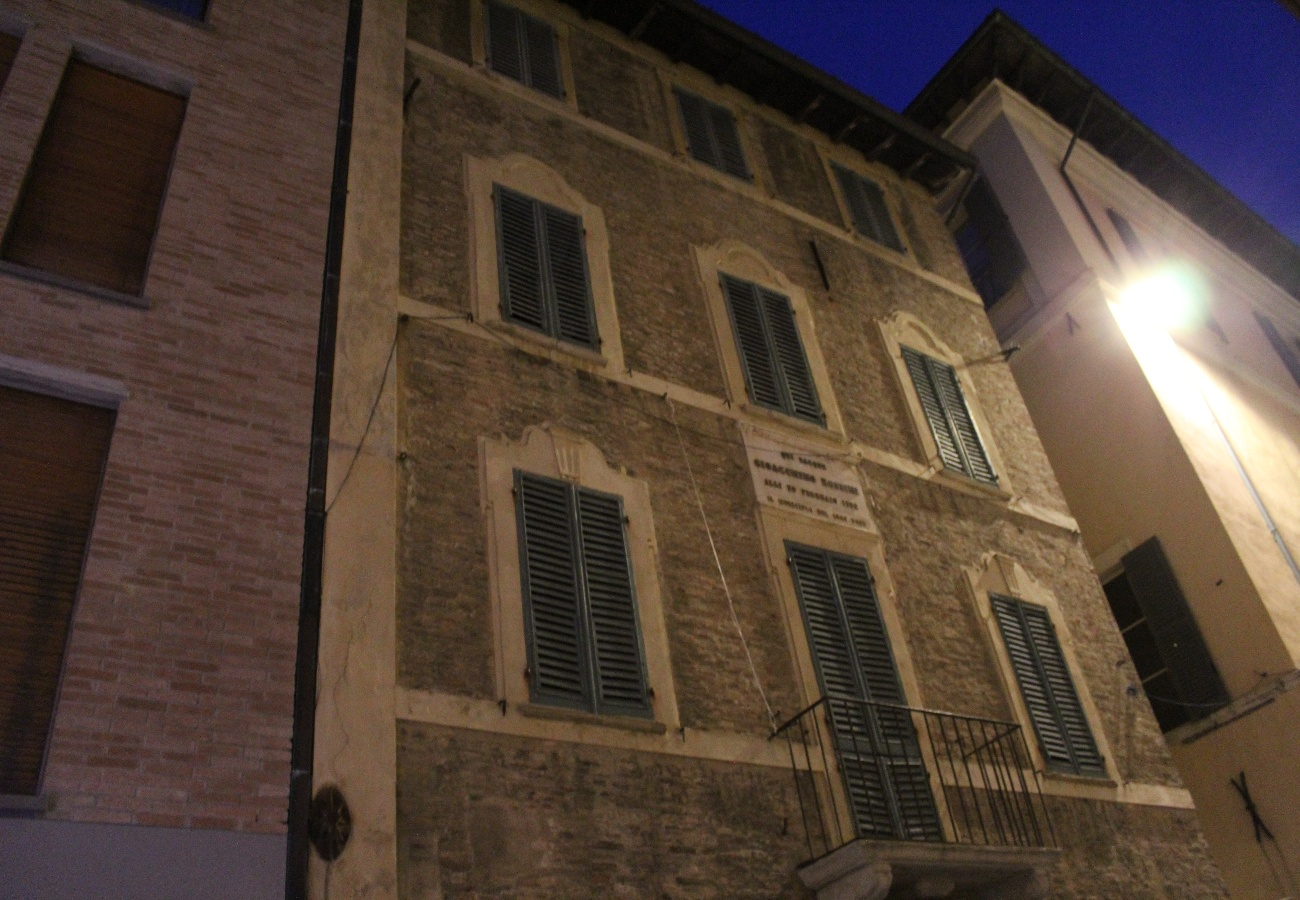Casa Rossini: (398, 5, 1115, 894)
